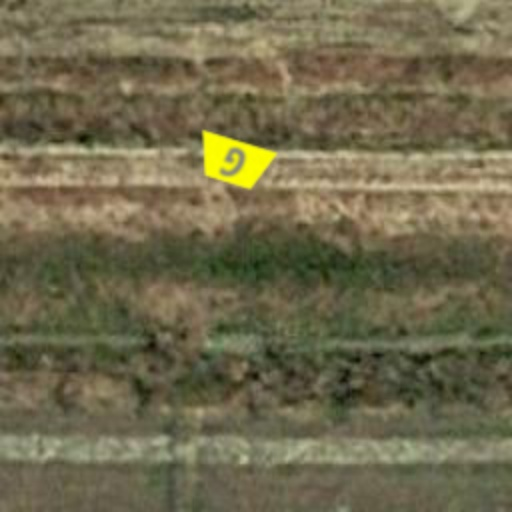trapezoid: (184, 112, 284, 212)
